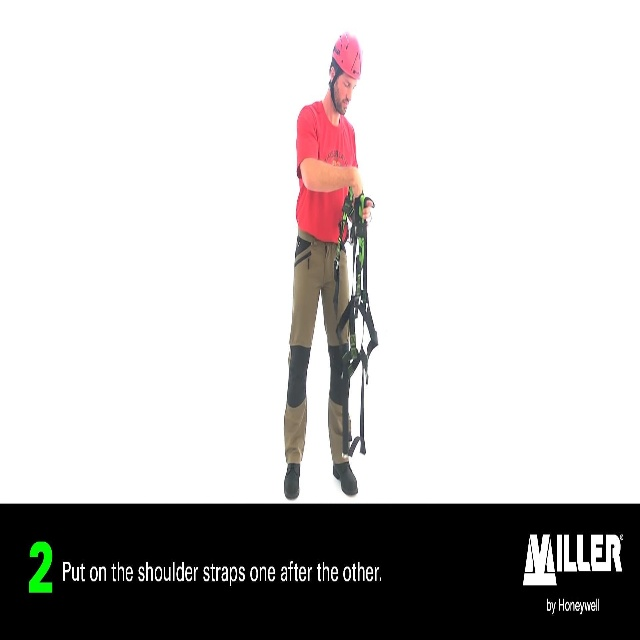Arnes_seguridad: (328, 183, 378, 462)
